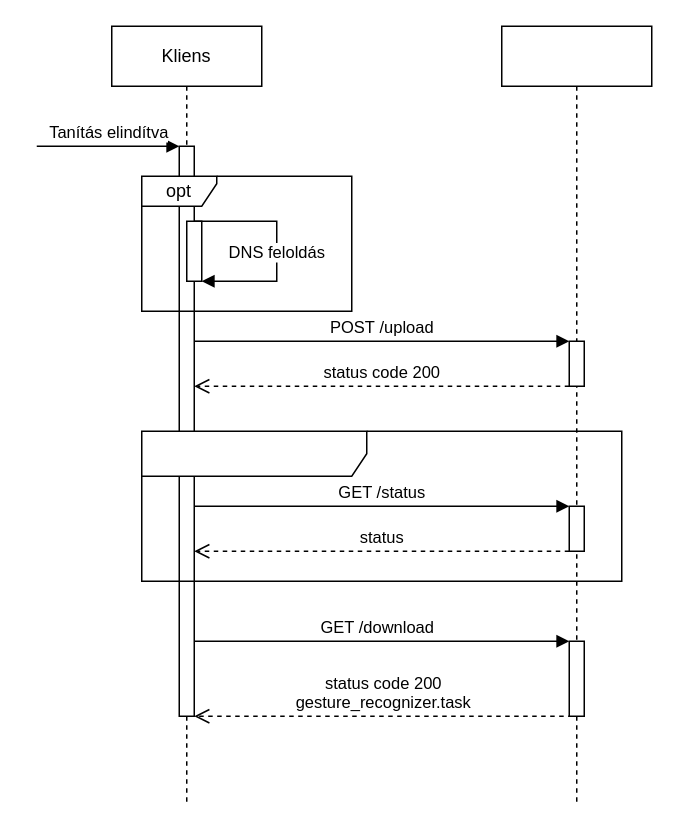
This 678x833 diagram has some shape labels left out. The centre of each missing label's shape, as x and y in pixels:
Tanítószerver: pixel 576 415
while status != "idle": pixel 381 505
